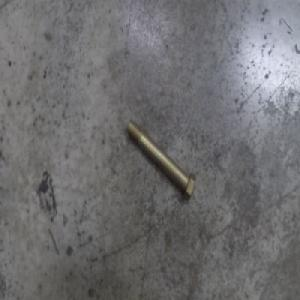Bolt: (127, 116, 197, 201)
